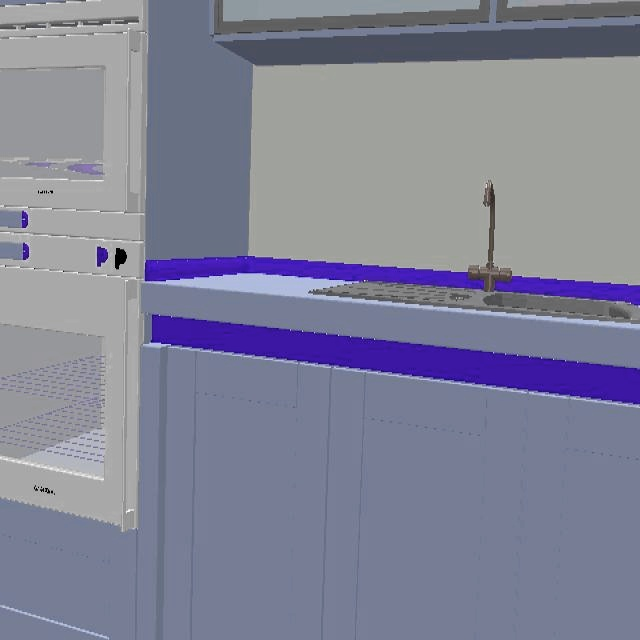microwave: (0, 0, 148, 241)
oven: (0, 228, 144, 533)
sink: (310, 282, 640, 324)
